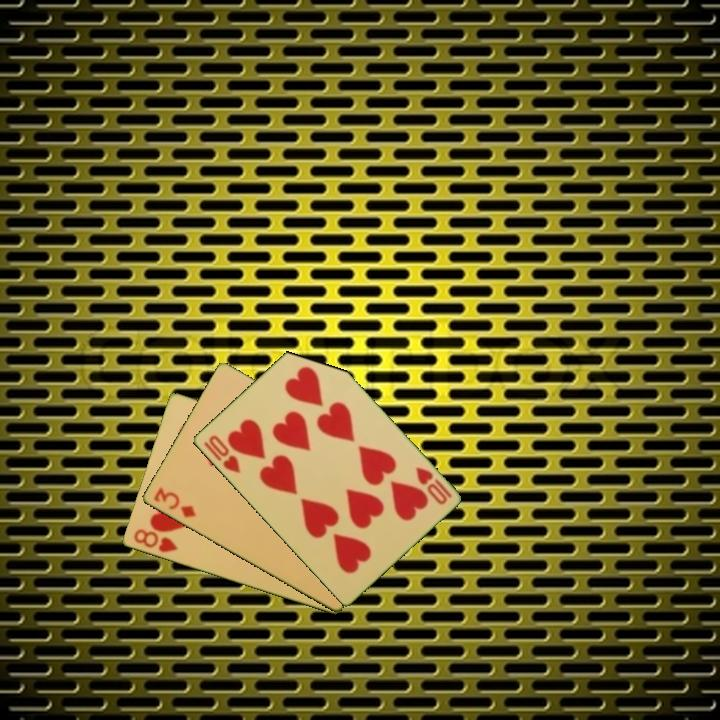10h: (411, 463, 454, 508), (205, 432, 243, 476)
3d: (150, 484, 199, 521)
8h: (130, 526, 181, 555)
